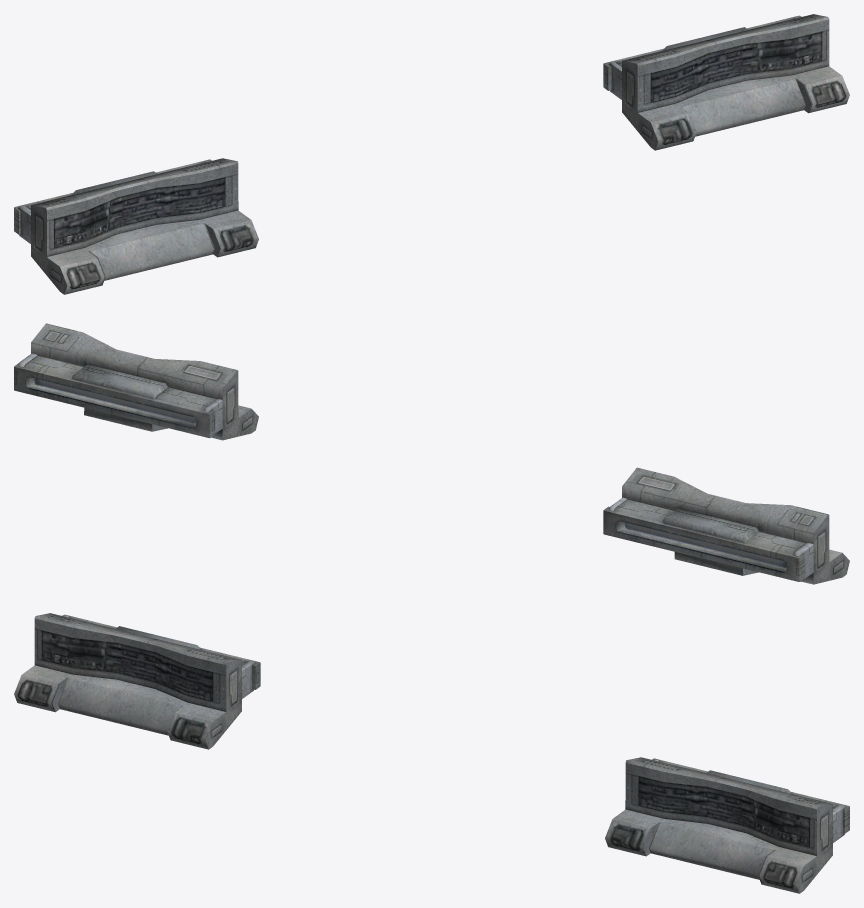
Rendered from ywing_booster_s01_l0.fbx.
The picture shows the model from 3 angles, top to bottom: view 1: azimuth 30°, elevation 25°; view 2: azimuth 150°, elevation 25°; view 3: azimuth 330°, elevation 25°; orthographic projection.
Parts seen in each view (by area): view 1: mesh_node; view 2: mesh_node; view 3: mesh_node.
Boxes of the visible parts, x1,y1,x2,y2 form: mesh_node: (14, 14, 849, 294); mesh_node: (14, 323, 849, 584); mesh_node: (14, 613, 849, 893).
Bounding box in the file's own units: 6.92 × 0.6195 × 0.795.
